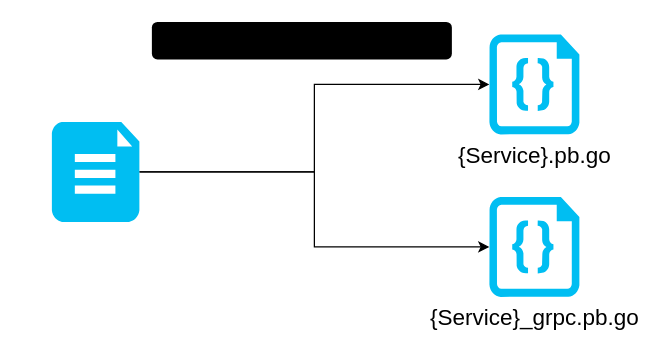
The diagram is 660 pixels wide and 354 high, and some of its shapes have lost their labels. The box of each missing label's shape, as (x1, y1, x2, y2) in pixels:
$ protoc {Service}.proto ....: (151, 21, 451, 59)
{Service}.proto: (51, 121, 139, 221)
